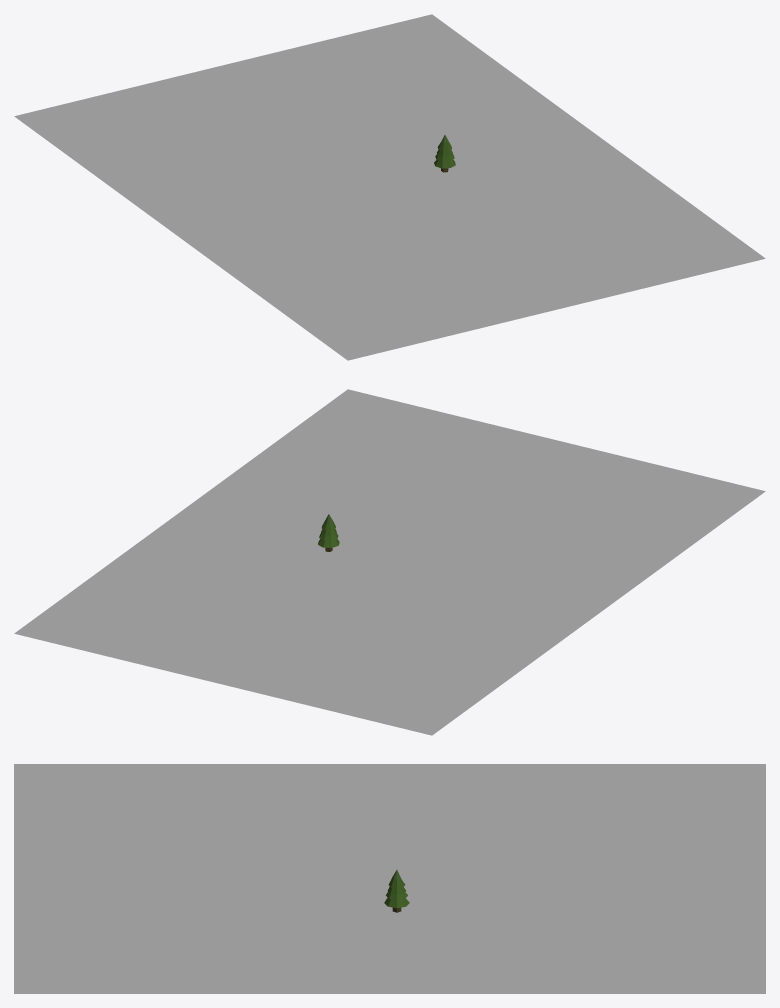
The model's file is map_with_trees 2.fbx.
3 renders of one model, top to bottom at view 1: azimuth 30°, elevation 25°; view 2: azimuth 150°, elevation 25°; view 3: azimuth 270°, elevation 25°, orthographic. The views are drawn at different scales.
Parts seen in each view (by area): view 1: polySurface93, polySurface79, polySurface73, polySurface63, polySurface59, polySurface43, polySurface42, polySurface38, polySurface28, polySurface22, polySurface8, polySurface98 (+88 smaller); view 2: polySurface98, polySurface78, polySurface72, polySurface68, polySurface53, polySurface52, polySurface49, polySurface33, polySurface29, polySurface23, polySurface3, polySurface93 (+88 smaller); view 3: polySurface100, polySurface99, polySurface98, polySurface97, polySurface96, polySurface95, polySurface94, polySurface93, polySurface92, polySurface91, polySurface90, polySurface89 (+89 smaller).
Boxes of the visible parts, x1,y1,x2,y2 form: polySurface93: [98, 85, 172, 120]; polySurface79: [415, 73, 489, 107]; polySurface73: [164, 134, 238, 168]; polySurface63: [198, 159, 272, 193]; polySurface59: [482, 122, 556, 156]; polySurface43: [265, 208, 339, 242]; polySurface42: [223, 218, 297, 252]; polySurface38: [507, 181, 581, 215]; polySurface28: [541, 206, 615, 240]; polySurface22: [290, 267, 364, 301]; polySurface8: [607, 254, 681, 289]; polySurface98: [307, 34, 381, 69]; polySurface98: [98, 629, 172, 664]; polySurface78: [164, 581, 238, 615]; polySurface72: [415, 642, 489, 676]; polySurface68: [198, 556, 272, 590]; polySurface53: [440, 583, 514, 617]; polySurface52: [482, 593, 556, 627]; polySurface49: [223, 497, 297, 531]; polySurface33: [507, 534, 581, 568]; polySurface29: [290, 448, 364, 482]; polySurface23: [541, 509, 615, 543]; polySurface3: [607, 460, 681, 495]; polySurface93: [307, 680, 381, 715]; polySurface100: [690, 971, 765, 993]; polySurface99: [690, 948, 765, 970]; polySurface98: [690, 925, 765, 947]; polySurface97: [690, 902, 765, 924]; polySurface96: [690, 879, 765, 901]; polySurface95: [690, 856, 765, 878]; polySurface94: [690, 833, 765, 855]; polySurface93: [690, 810, 765, 832]; polySurface92: [690, 787, 765, 809]; polySurface91: [690, 764, 765, 786]; polySurface90: [615, 971, 690, 993]; polySurface89: [615, 948, 690, 970].
Size of the model in its own units: 130 by 12.68 by 180.
